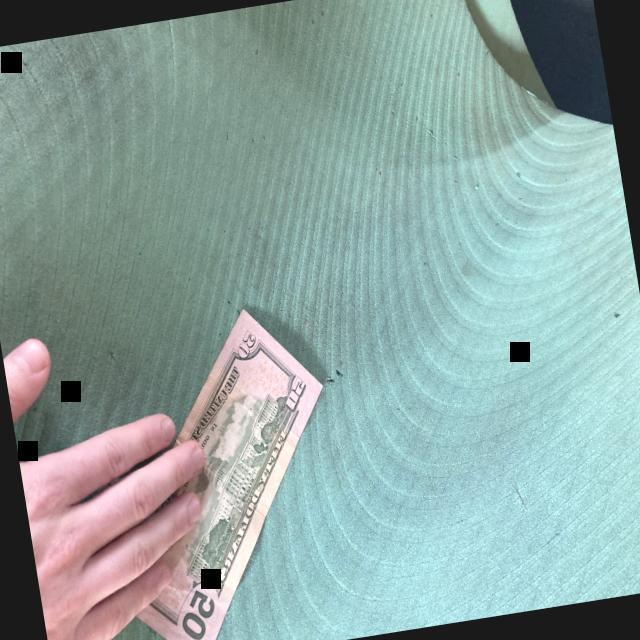fifty: (99, 309, 322, 640)
